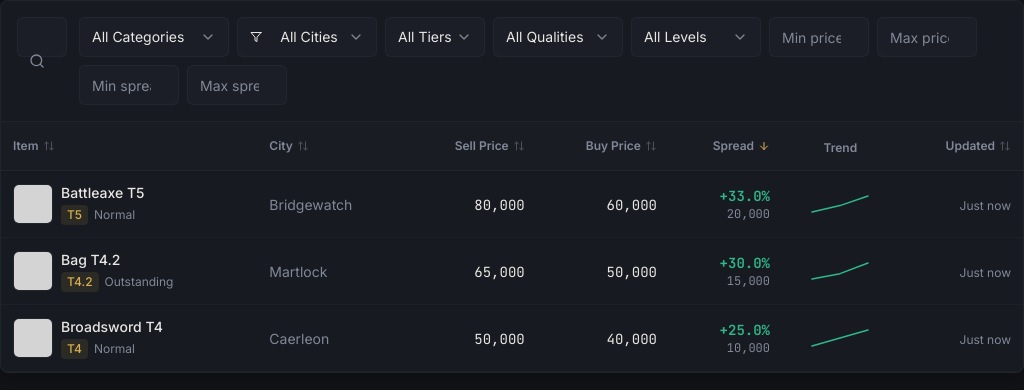
Test: PriceTable — Clear All e indicador (AC3, AC4) › limpa todos os filtros ao clicar Clear All
The image size is (1024, 390).
Type "60000" into the number field with placeholder "Min price" at (819, 37), box [769, 17, 869, 57]
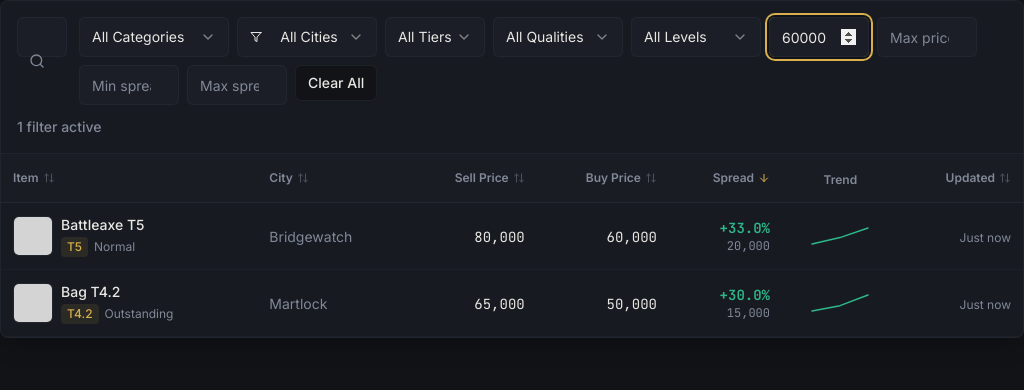
Click the button "Clear All" at (336, 83), box [295, 65, 377, 101]
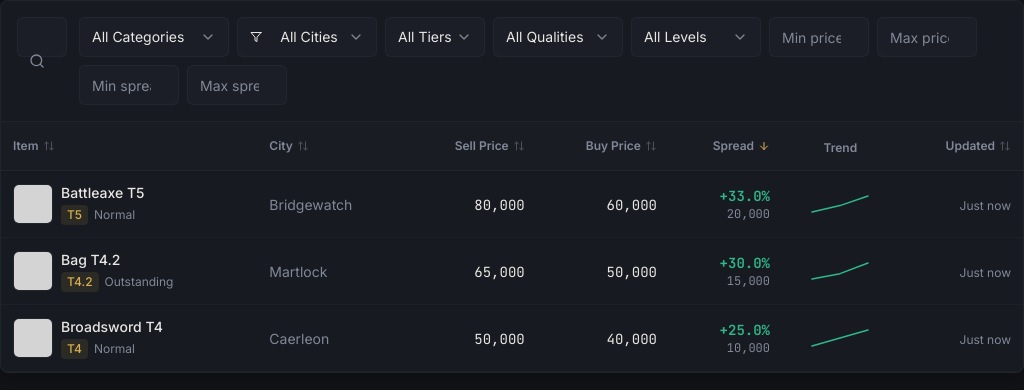
Expected: the text "Battleaxe T5" is shown, [61, 183, 144, 203]
Expected: the text "Broadsword T4" is shown, [61, 317, 163, 337]
